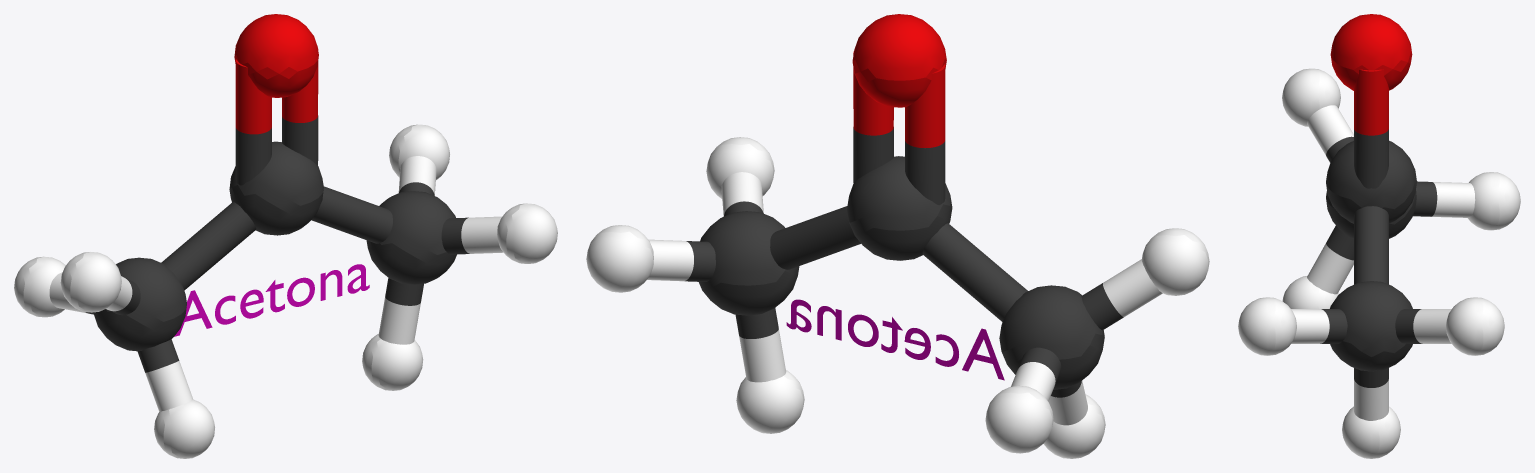
The model's file is acetona.glb.
3 views of the same model, side by side, from view 1: azimuth 30°, elevation 25°; view 2: azimuth 150°, elevation 25°; view 3: azimuth 270°, elevation 25° (orthographic). The views are drawn at different scales.
Parts seen in each view (by area): view 1: Shape_IndexedFaceSet.017, Shape_IndexedFaceSet.028, Shape_IndexedFaceSet.037, Text; view 2: Shape_IndexedFaceSet.017, Shape_IndexedFaceSet.028, Shape_IndexedFaceSet.037, Text; view 3: Shape_IndexedFaceSet.028, Shape_IndexedFaceSet.017, Shape_IndexedFaceSet.037.
Boxes of the visible parts, box(x1,y1,x2,y2) form: Shape_IndexedFaceSet.017: box(85, 115, 469, 372); Shape_IndexedFaceSet.028: box(14, 124, 557, 458); Shape_IndexedFaceSet.037: box(234, 14, 318, 134); Text: box(174, 264, 369, 336); Shape_IndexedFaceSet.017: box(685, 127, 1123, 397); Shape_IndexedFaceSet.028: box(586, 137, 1209, 458); Shape_IndexedFaceSet.037: box(852, 14, 946, 147); Text: box(786, 299, 1004, 380); Shape_IndexedFaceSet.028: box(1238, 68, 1520, 458); Shape_IndexedFaceSet.017: box(1320, 129, 1437, 387); Shape_IndexedFaceSet.037: box(1330, 14, 1412, 135).
Size of the model in its own units: 44.47 by 36.36 by 24.24.
